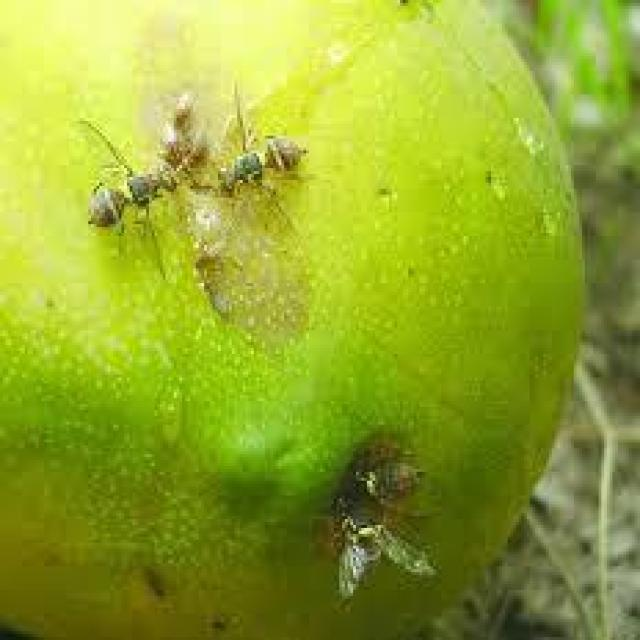maca: (0, 0, 588, 637)
